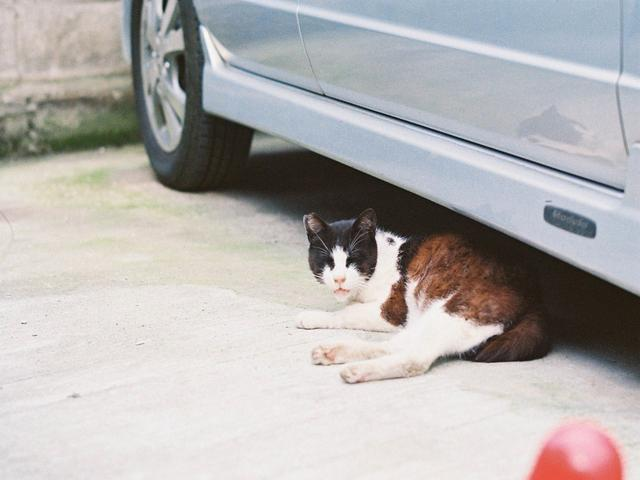cat: (278, 192, 582, 440)
